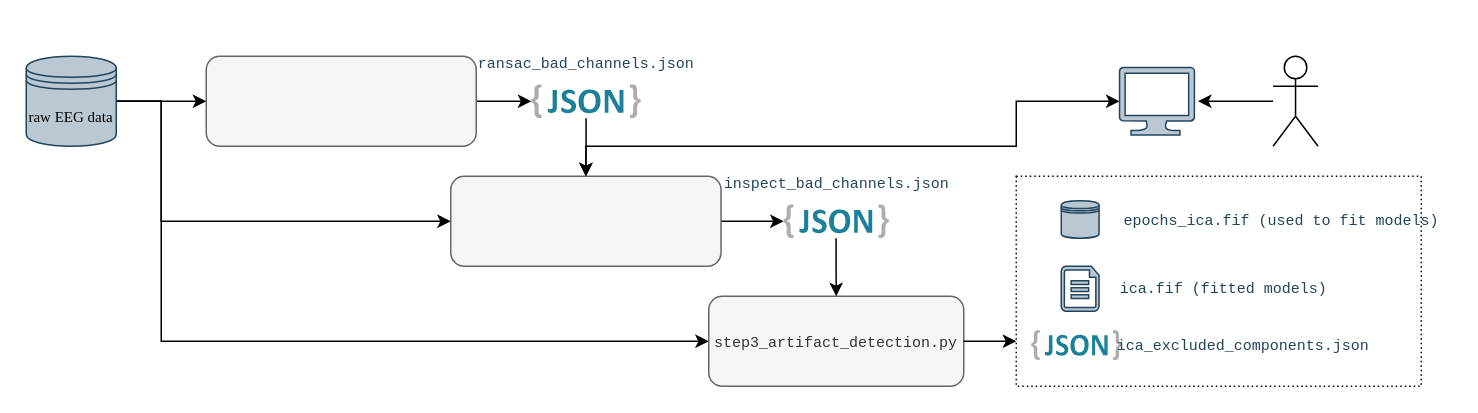
Some shapes in this 1478 by 413 pixel diagram are drawn without their labels. The shapes that lost their labels are listed below. From the top down, each one's centre as x and y in pixels, then its label:
[340,100]: step1_detect_bad_channels.py
[585,220]: step2_inspect_bad_channels.py
